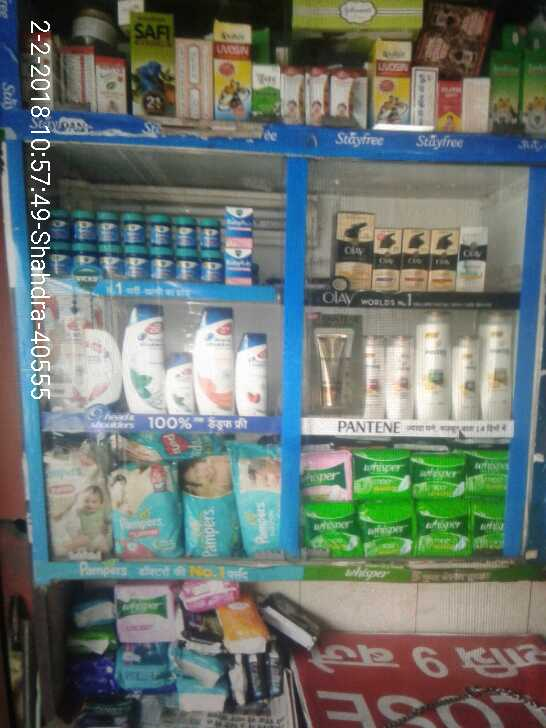vicks: (48, 191, 255, 288)
